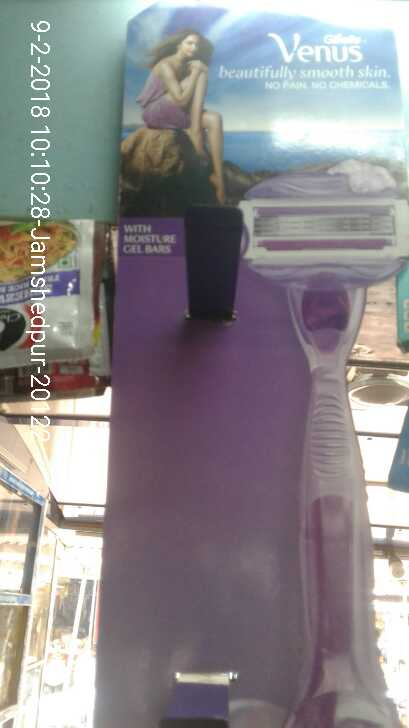reject: (146, 288, 265, 410)
